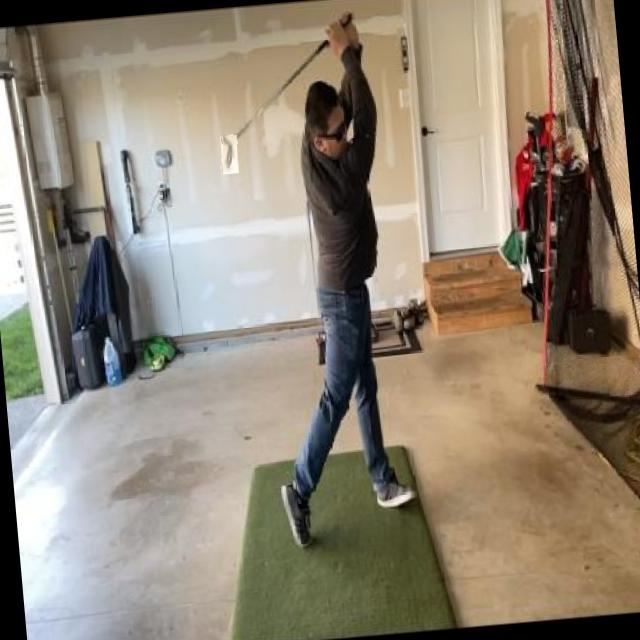club head: (220, 135, 238, 174)
